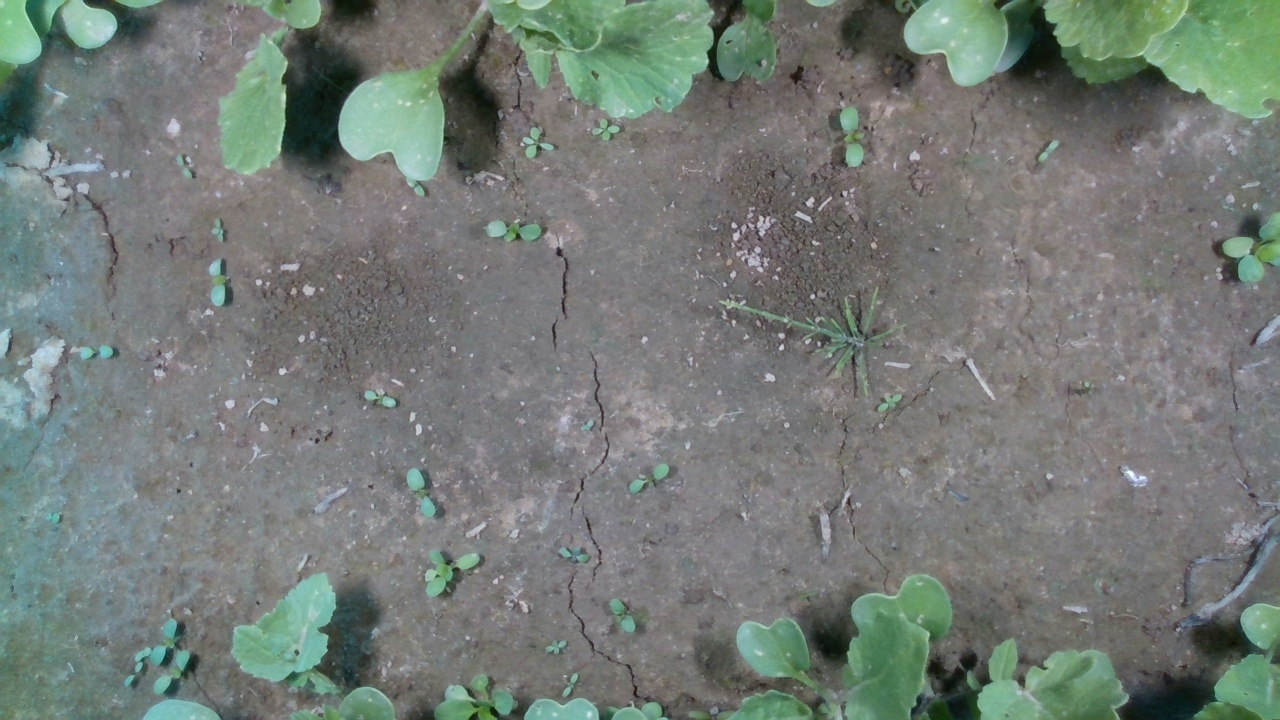weed: (838, 104, 866, 170), (406, 466, 436, 519), (626, 462, 669, 496), (519, 124, 556, 160), (482, 218, 542, 240), (607, 596, 636, 634), (208, 255, 225, 307), (590, 118, 620, 141), (362, 389, 398, 408), (78, 342, 114, 361), (1037, 138, 1061, 165), (556, 545, 590, 564), (876, 391, 903, 413), (123, 661, 143, 688), (175, 154, 194, 180), (561, 671, 579, 698), (544, 637, 567, 655), (210, 217, 224, 243)
